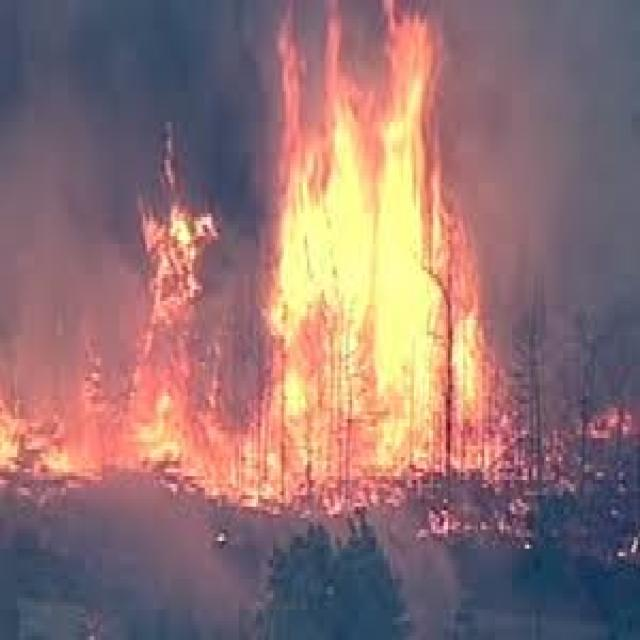Fire: (1, 0, 640, 557)
Smoke: (433, 2, 640, 320), (4, 3, 150, 381)
